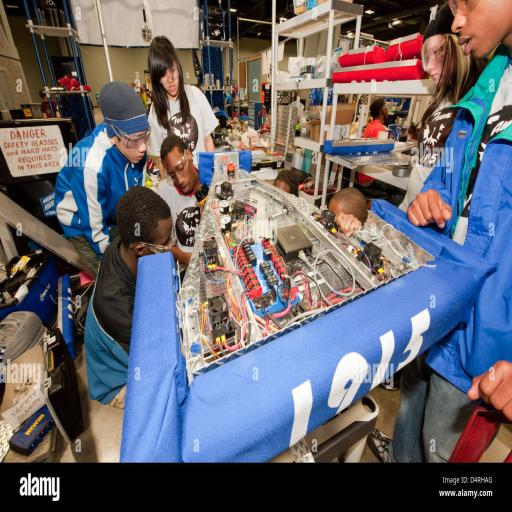robot: (112, 99, 496, 458)
